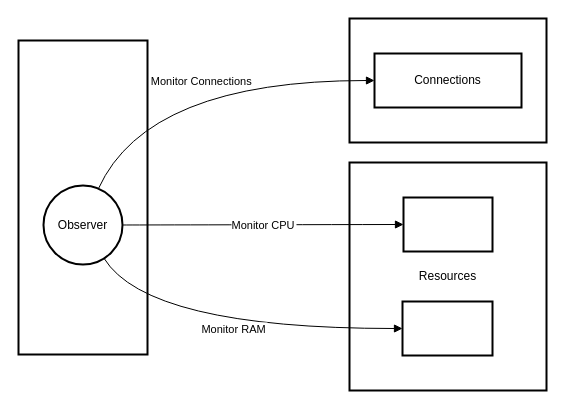
Some shapes in this 564 by 408 pixel diagram are drawn without their labels. Each missing label, with the centre of its shape:
CPU: the point at 447,224
RAM: the point at 447,328
